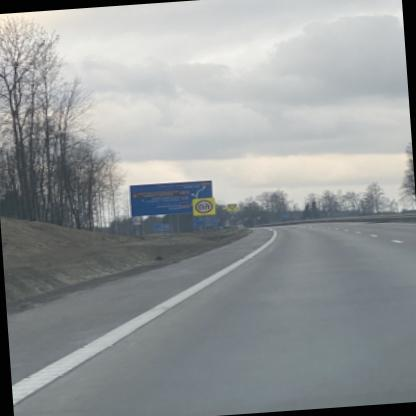speedlimit: (197, 198, 216, 213)
